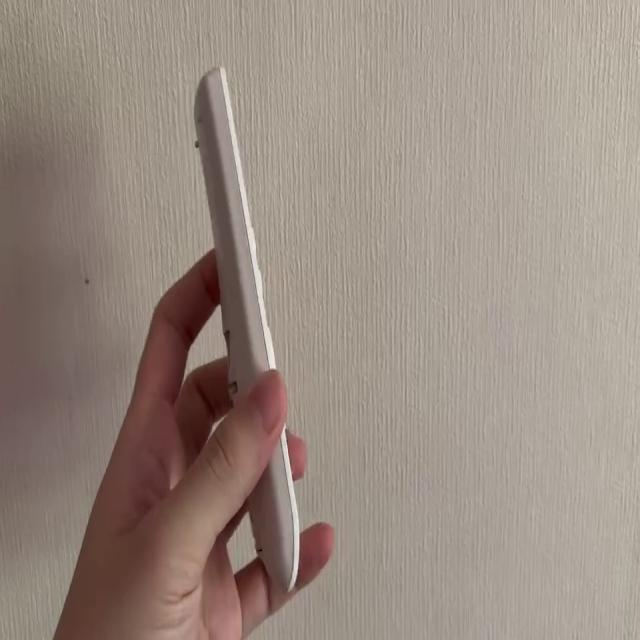remote: (194, 67, 304, 596)
